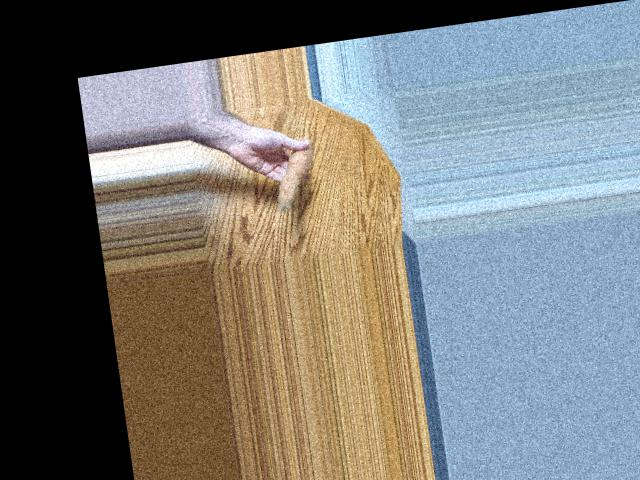sweet_potato: (262, 135, 322, 215)
